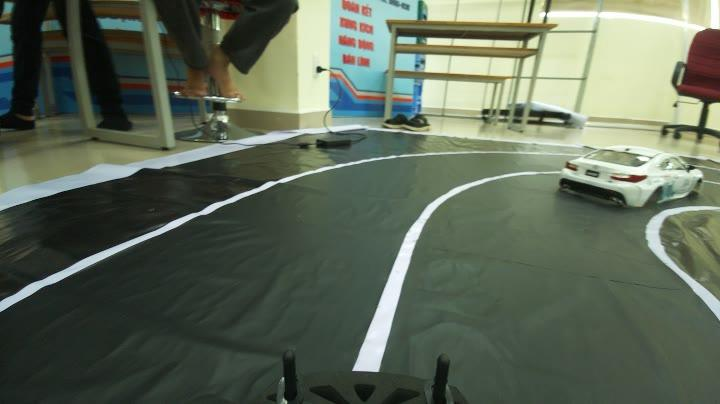car: (554, 136, 692, 223)
